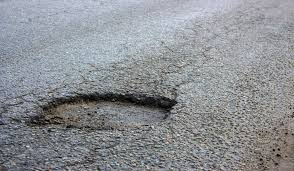pothole: (33, 89, 174, 140)
